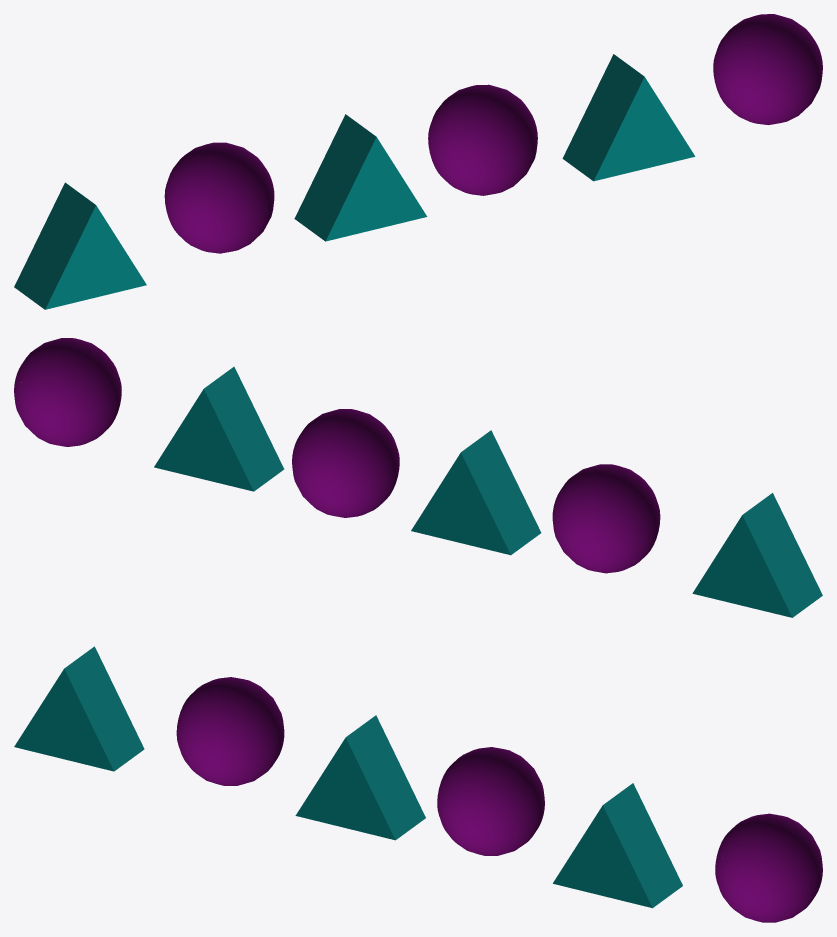
File: main pattern.fbx
The picture shows the model from 3 angles, top to bottom: view 1: azimuth 30°, elevation 25°; view 2: azimuth 150°, elevation 25°; view 3: azimuth 330°, elevation 25°; orthographic projection.
Visible parts, largest first — view 1: Model; view 2: Model; view 3: Model.
Part boxes in pixels (left/top/right/bottom): Model: left=14, top=14, right=822, bottom=309; Model: left=14, top=338, right=822, bottom=617; Model: left=14, top=646, right=822, bottom=922.
Bounding box in the file's own units: 81.2 × 10.54 × 9.91.
